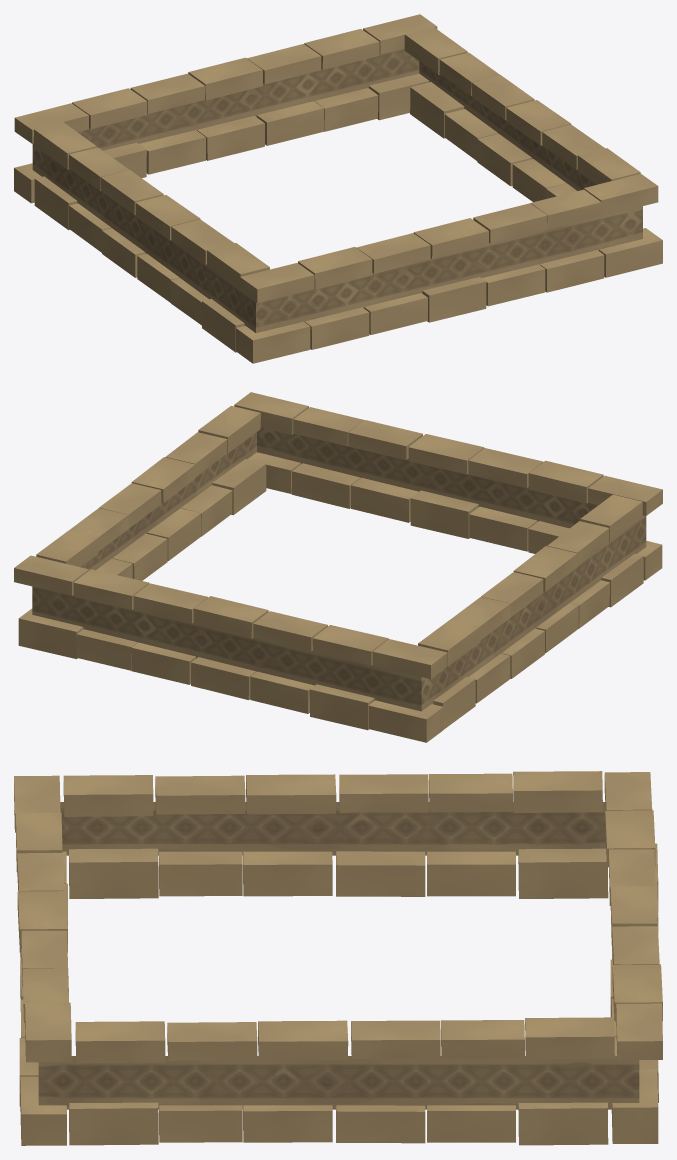
The model's file is A_Tower_A_KitPart.FBX.
The picture shows the model from 3 angles, top to bottom: view 1: azimuth 30°, elevation 25°; view 2: azimuth 150°, elevation 25°; view 3: azimuth 270°, elevation 25°; orthographic projection. The views are drawn at different scales.
Visible parts, largest first — view 1: A_Tower_A_KitPart; view 2: A_Tower_A_KitPart; view 3: A_Tower_A_KitPart.
Boxes of the visible parts, x1,y1,x2,y2 form: A_Tower_A_KitPart: (14, 14, 662, 363); A_Tower_A_KitPart: (14, 392, 662, 742); A_Tower_A_KitPart: (14, 771, 662, 1145).
Size of the model in its own units: 343 by 62.53 by 346.
